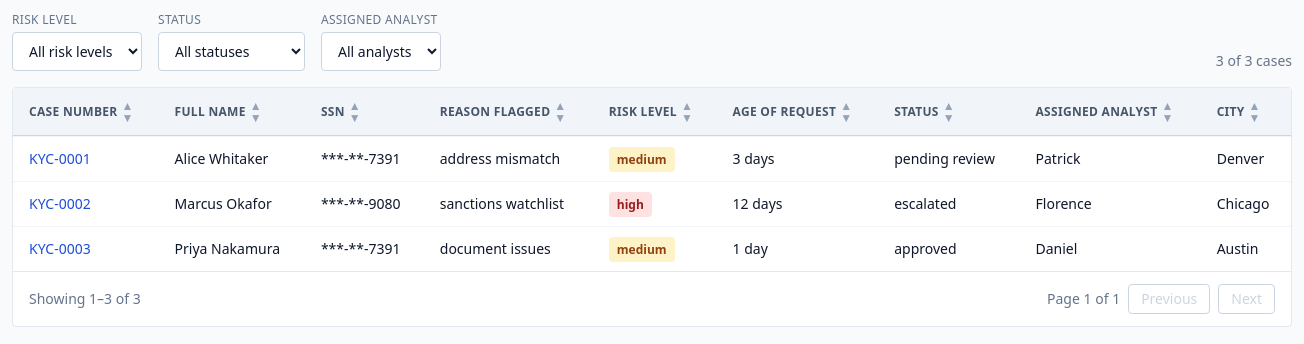
Test: CaseQueue › filters by assigned analyst
Select "Florence" in the dropdown labelled "Assigned analyst" at [381, 52], box [321,32,441,71]
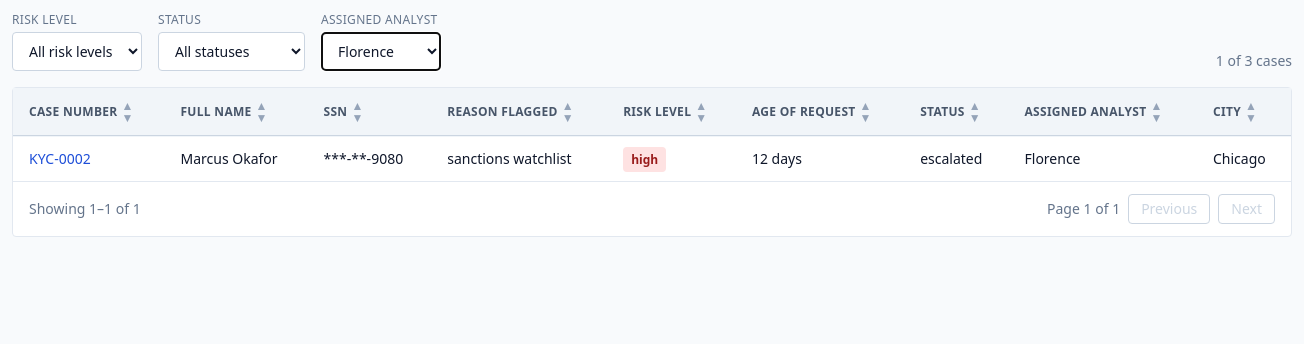
Expected: the link "KYC-0002" is shown, [29,149,91,168]
Result: the link "KYC-0001" is gone
Result: the text with test id "result-count" reads "1 of 3 cases" at [1216,51,1292,71]
